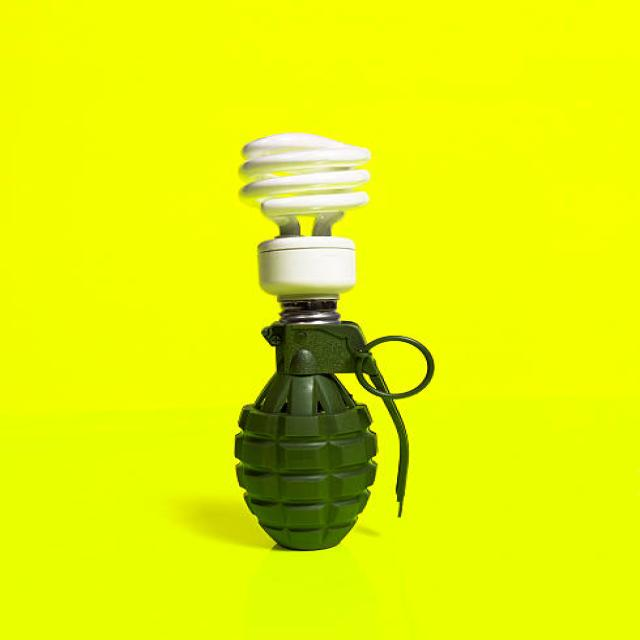grenade: (227, 321, 439, 555)
